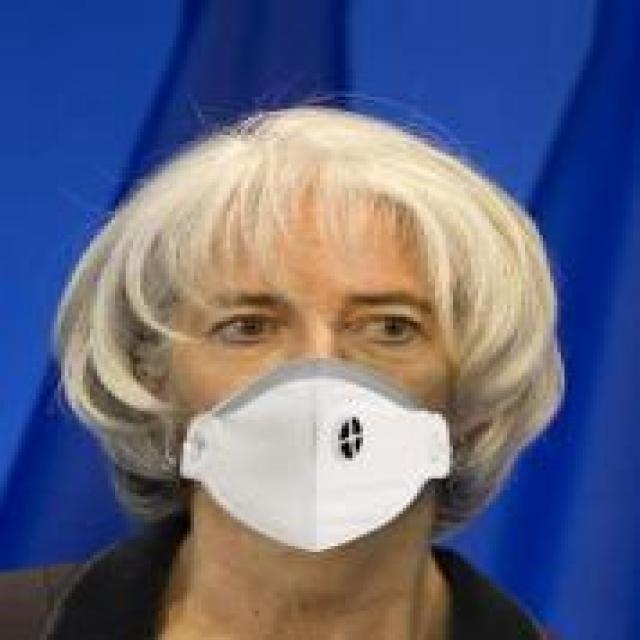mask: (119, 76, 626, 584)
